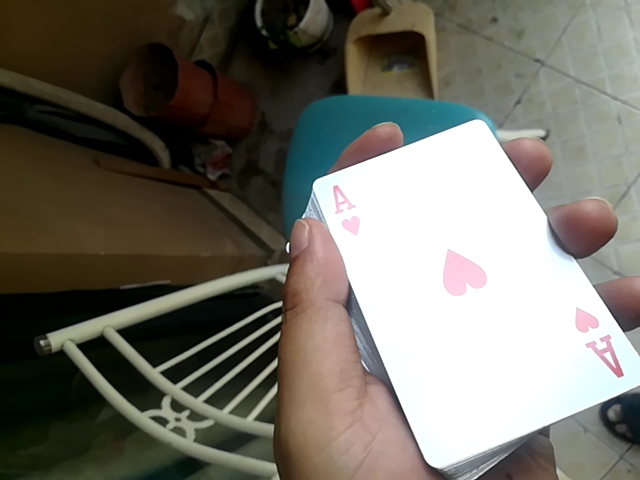hx a: (308, 119, 632, 475)
